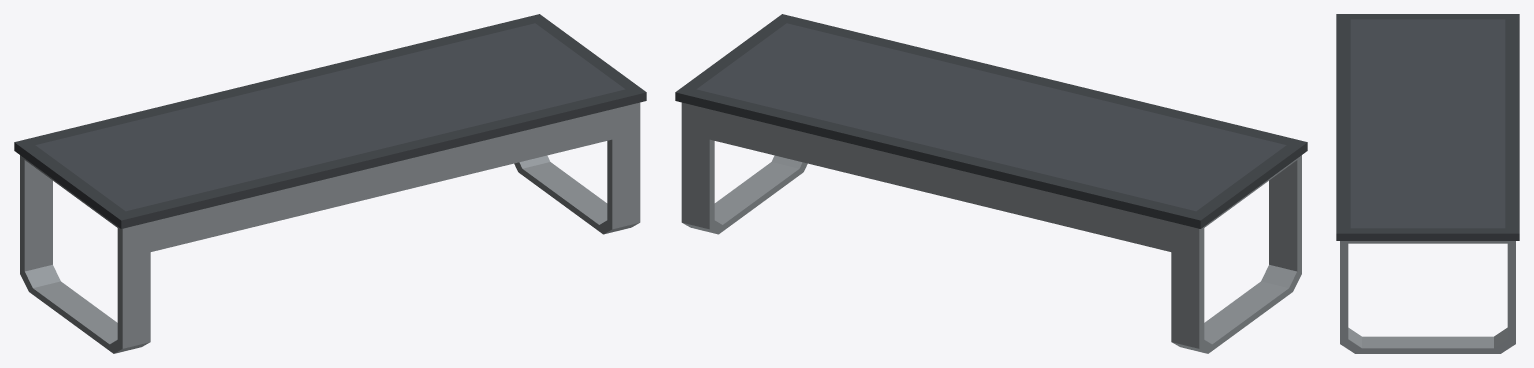
The model's file is SM_Prop_Bench_06.obj.
3 renders of one model, left to right at view 1: azimuth 30°, elevation 25°; view 2: azimuth 150°, elevation 25°; view 3: azimuth 270°, elevation 25°, orthographic. The views are drawn at different scales.
Parts seen in each view (by area): view 1: SM_Prop_Bench_06_0; view 2: SM_Prop_Bench_06_0; view 3: SM_Prop_Bench_06_0.
Part boxes in pixels (x1,y1,x2,y2): SM_Prop_Bench_06_0: (14, 14, 646, 353); SM_Prop_Bench_06_0: (675, 14, 1307, 353); SM_Prop_Bench_06_0: (1336, 14, 1519, 353).
Bounding box in the file's own units: 1.85 × 0.4788 × 0.6525.
1 material, 1 textured.
